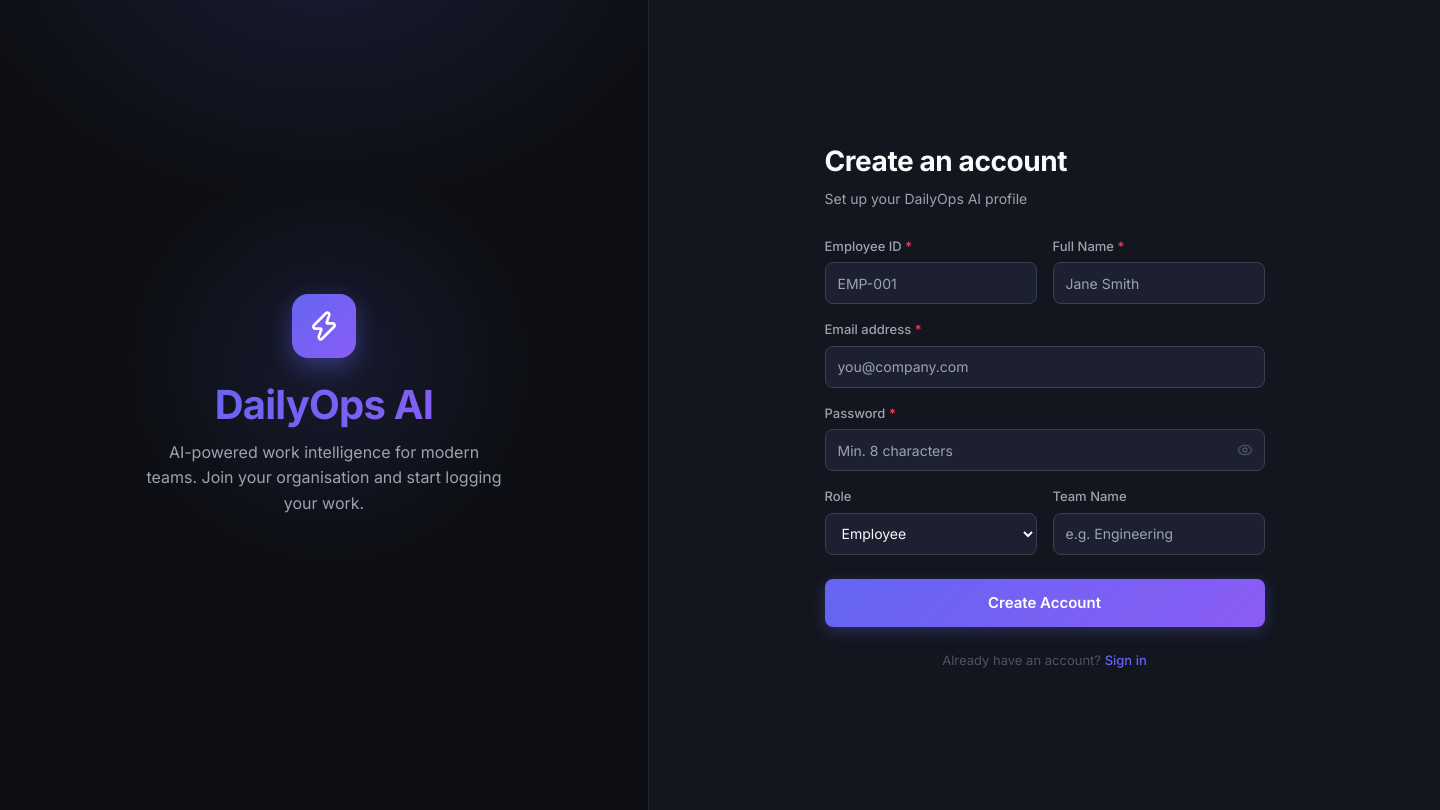
Test: RegisterPage — validation › shows error for invalid email format
The image size is (1440, 810).
Type "not-an-email" into the field labelled "Email address *" at (1044, 367), box [824, 346, 1264, 388]
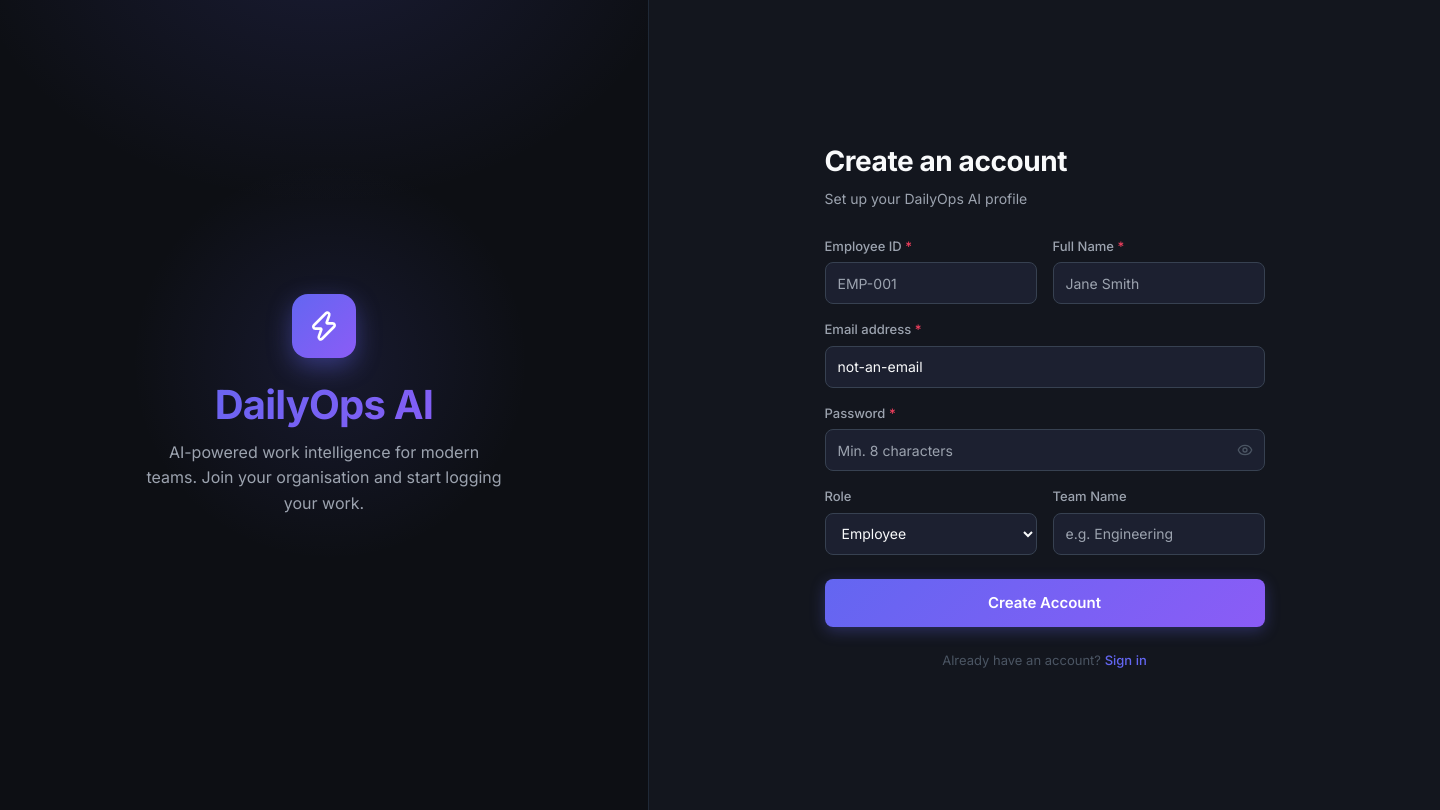
Click the button "Create Account" at (1044, 603), box [824, 579, 1264, 627]
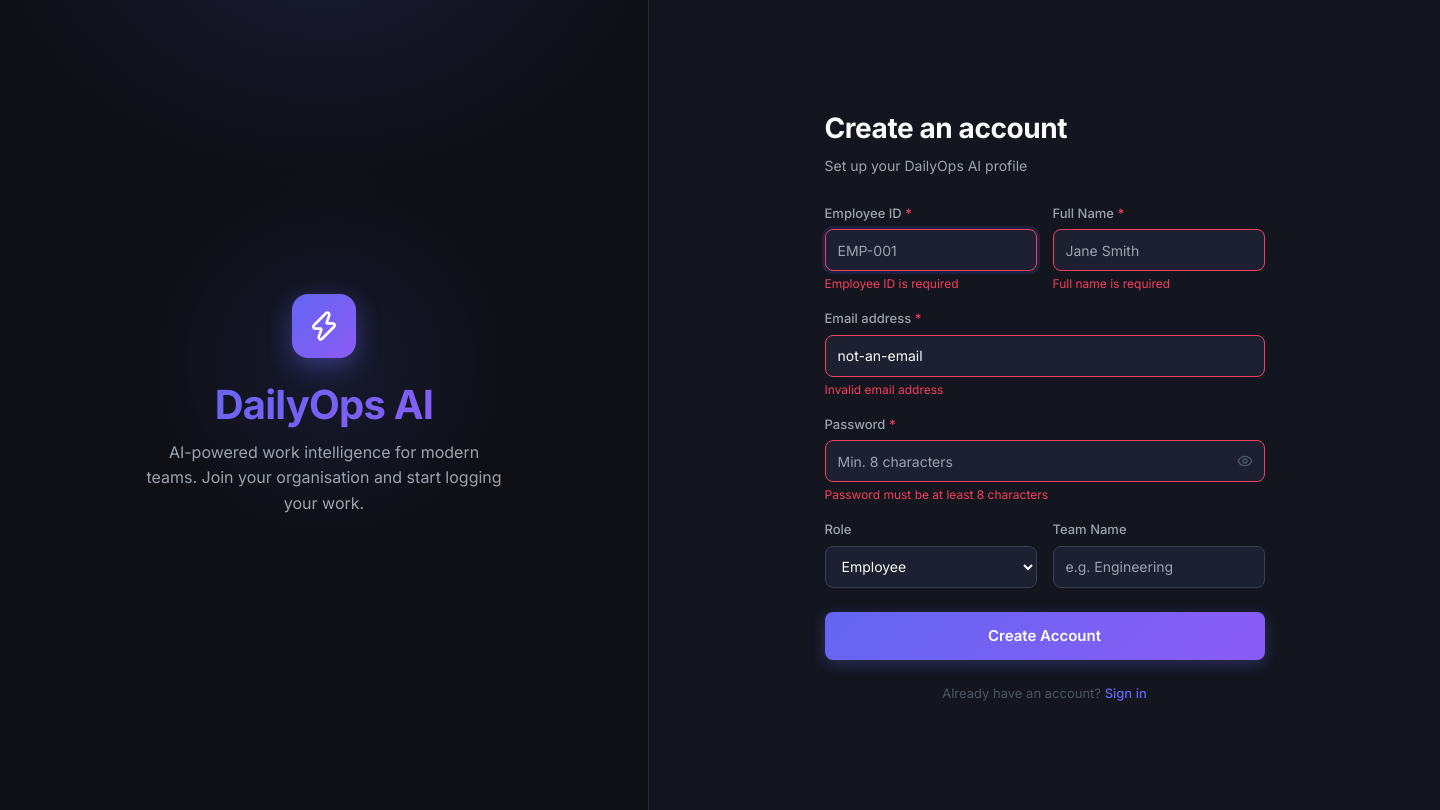
Expected: the text "Invalid email address" is shown, [824, 382, 944, 397]
